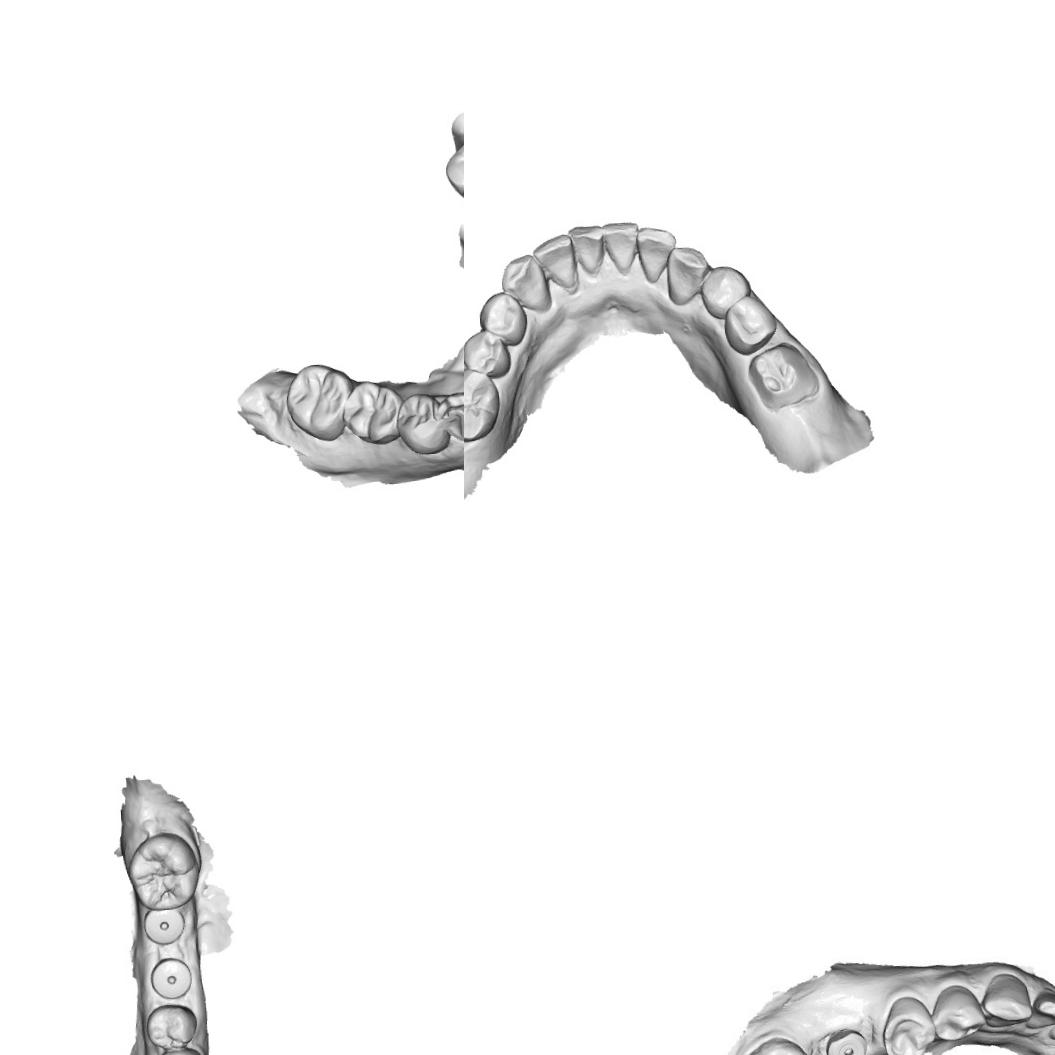canine: (498, 252, 554, 314), (978, 970, 1034, 1029), (664, 245, 712, 307)
implant: (146, 954, 192, 1000), (142, 906, 187, 948), (822, 1025, 870, 1055)
incisor: (530, 230, 579, 294), (634, 224, 678, 284), (600, 219, 641, 278), (567, 221, 605, 280), (1022, 985, 1055, 1031)
molar: (124, 829, 201, 913), (283, 359, 355, 443), (744, 340, 820, 413), (339, 377, 404, 448), (464, 364, 503, 445), (438, 131, 464, 217), (733, 1032, 822, 1055)
premolar: (393, 391, 452, 457), (877, 992, 936, 1055), (720, 293, 778, 356), (930, 982, 986, 1044), (698, 264, 753, 321), (476, 290, 530, 348), (143, 1002, 198, 1052), (464, 327, 512, 380), (441, 390, 464, 444)
